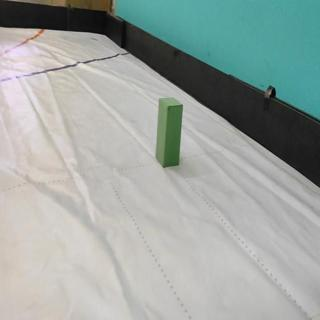greenbox: (155, 96, 184, 168)
